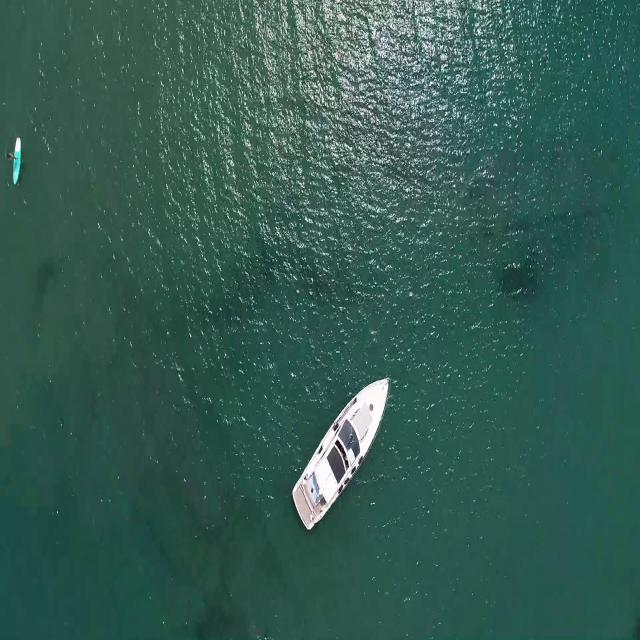boat: (288, 375, 391, 532)
person: (7, 146, 21, 163)
surfboard: (14, 136, 24, 183)
